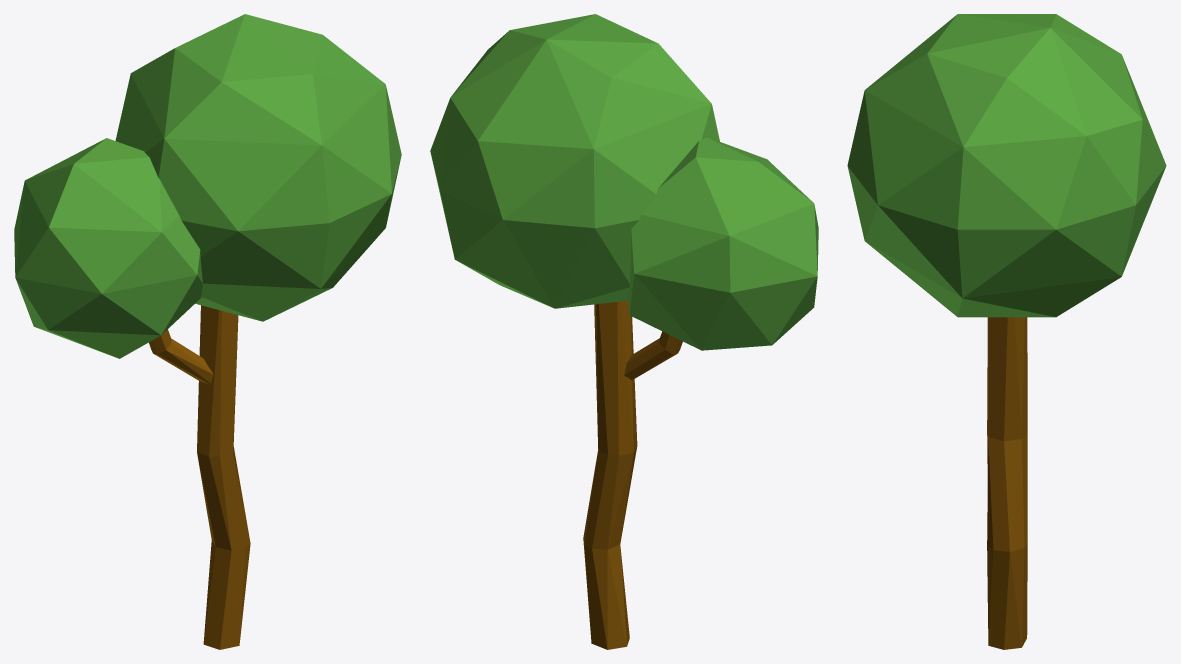
The model's file is tree3.fbx.
3 renders of one model, left to right at view 1: azimuth 30°, elevation 25°; view 2: azimuth 150°, elevation 25°; view 3: azimuth 270°, elevation 25°, orthographic. The views are drawn at different scales.
Parts seen in each view (by area): view 1: Icosphere, Icosphere.001, Cylinder, Cylinder.001; view 2: Icosphere, Icosphere.001, Cylinder, Cylinder.001; view 3: Icosphere, Cylinder.
Boxes of the visible parts, bbox=[...] form: Icosphere: bbox=[115, 14, 401, 321]; Icosphere.001: bbox=[14, 138, 202, 358]; Cylinder: bbox=[197, 305, 250, 649]; Cylinder.001: bbox=[148, 329, 213, 384]; Icosphere: bbox=[430, 14, 719, 308]; Icosphere.001: bbox=[627, 137, 818, 350]; Cylinder: bbox=[583, 300, 637, 649]; Cylinder.001: bbox=[624, 331, 682, 380]; Icosphere: bbox=[847, 14, 1166, 317]; Cylinder: bbox=[987, 317, 1027, 649].
Size of the model in its own units: 277 by 440 by 200.
